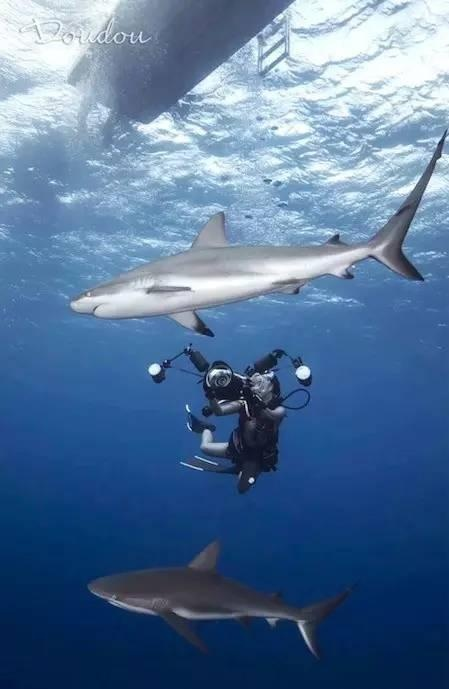fish: (63, 136, 449, 327), (68, 538, 348, 657)
